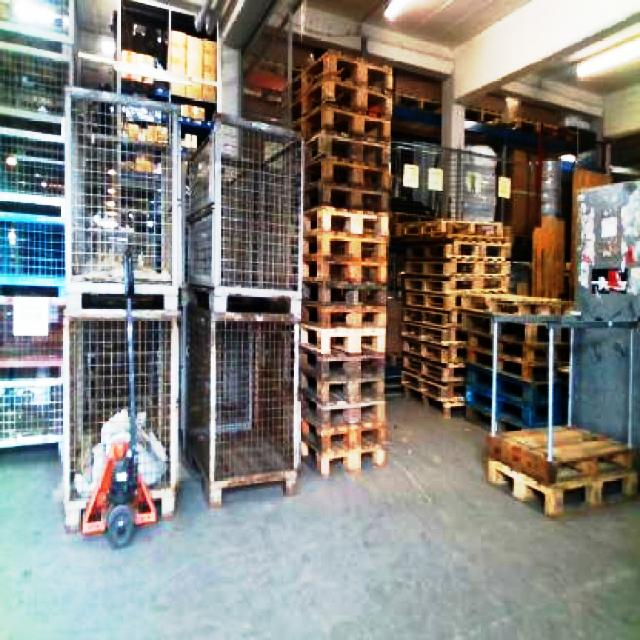ground: (0, 383, 638, 638)
pallet: (292, 46, 638, 515), (182, 111, 302, 506), (292, 48, 392, 475), (483, 312, 638, 515), (60, 306, 180, 529), (395, 215, 514, 418), (457, 289, 572, 429), (485, 423, 638, 517), (297, 345, 388, 475)
